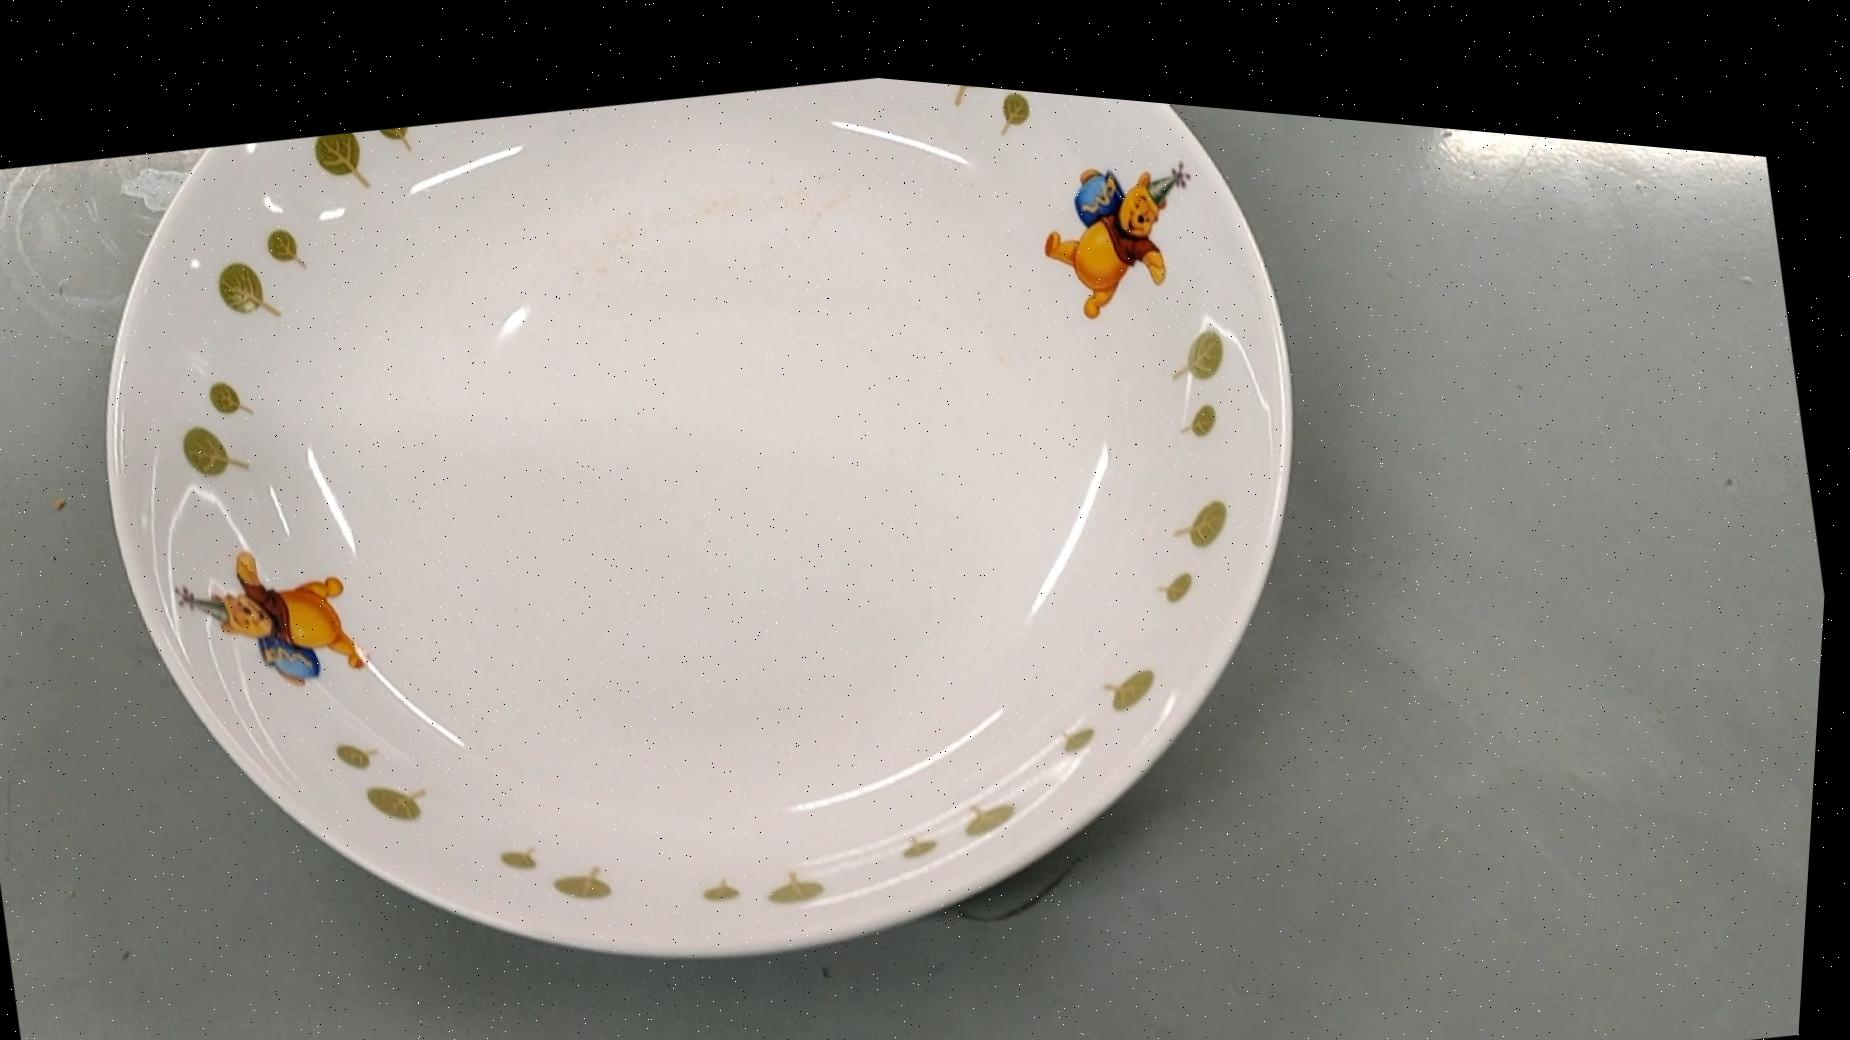plate: (28, 5, 1399, 1040)
